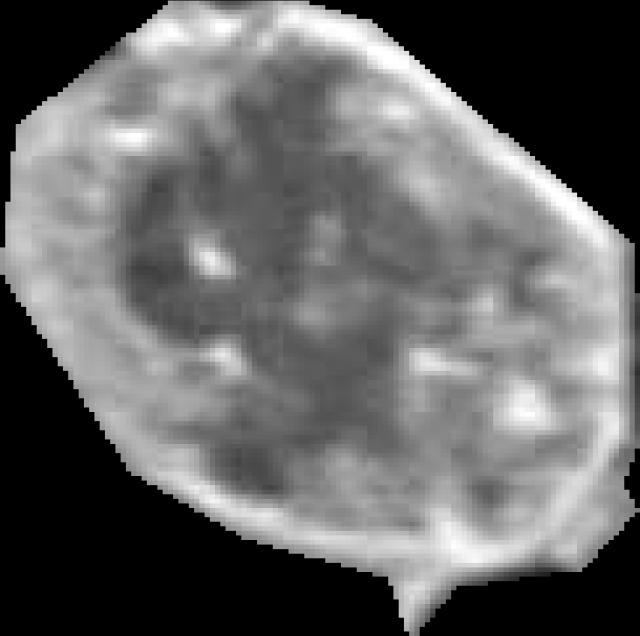tumor_good_chance: (0, 1, 640, 636)
